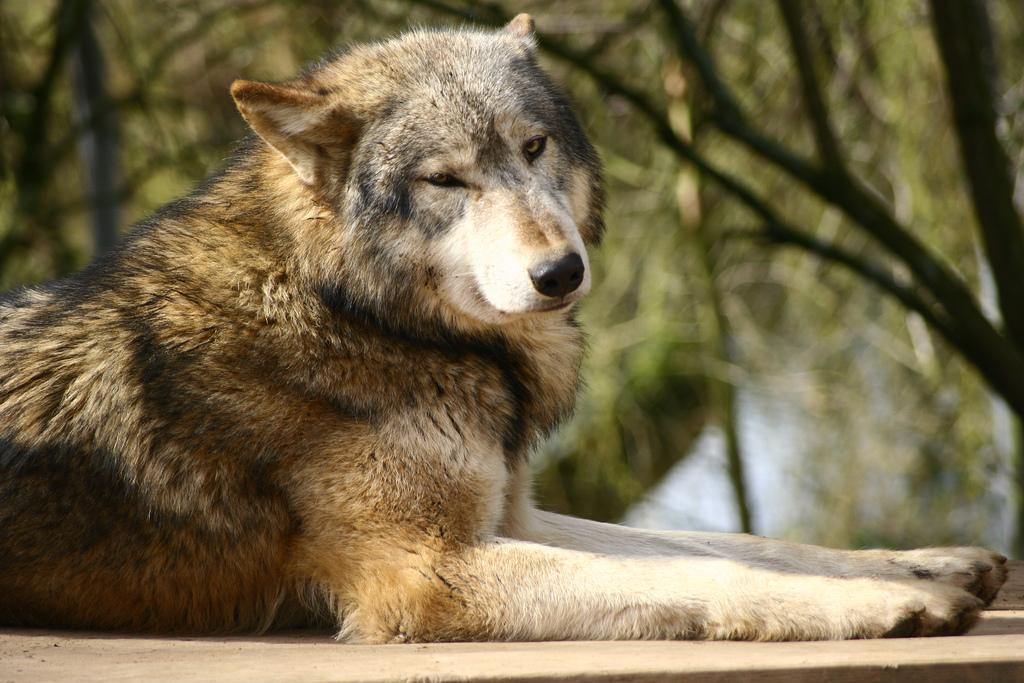Wolf: (1, 11, 1012, 643)
